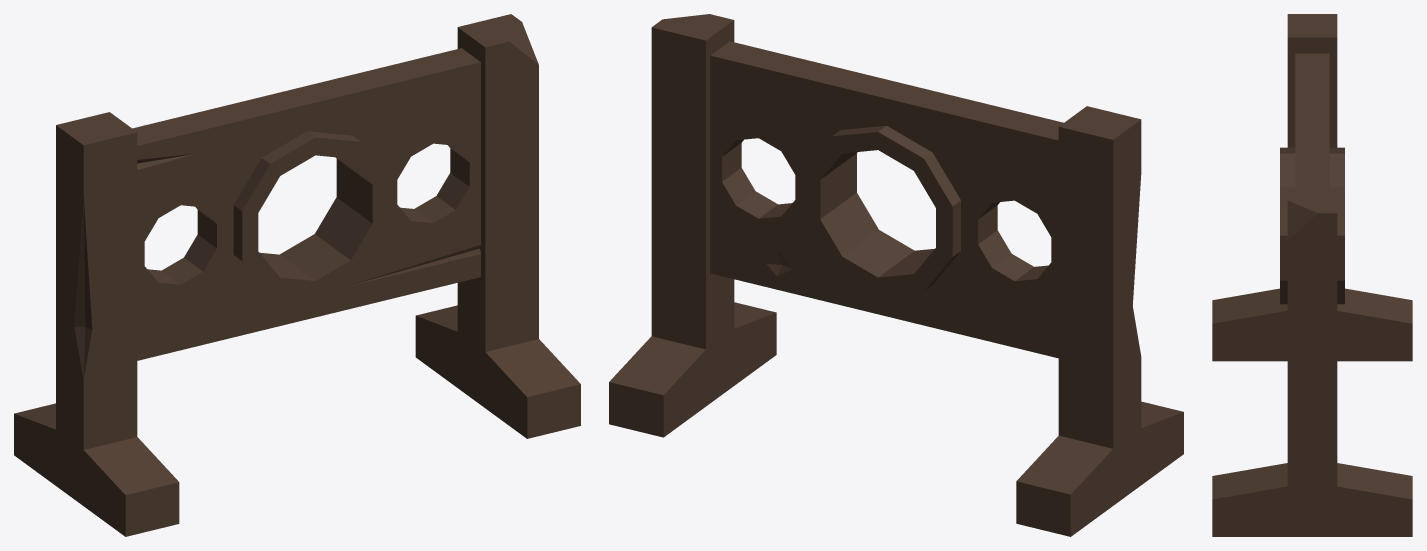
Rendered from cage_1.fbx.
3 renders of one model, left to right at view 1: azimuth 30°, elevation 25°; view 2: azimuth 150°, elevation 25°; view 3: azimuth 270°, elevation 25°, orthographic. The views are drawn at different scales.
Parts seen in each view (by area): view 1: cage_1; view 2: cage_1; view 3: cage_1.
Boxes of the visible parts, x1=… form: cage_1: x1=14, y1=14, x2=580, y2=536; cage_1: x1=609, y1=14, x2=1183, y2=536; cage_1: x1=1212, y1=14, x2=1412, y2=536.
Bounding box in the file's own units: 182 × 138 × 77.22.
